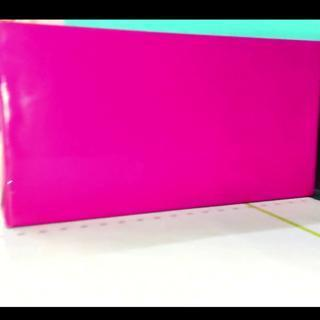xparking: (4, 23, 319, 226)
